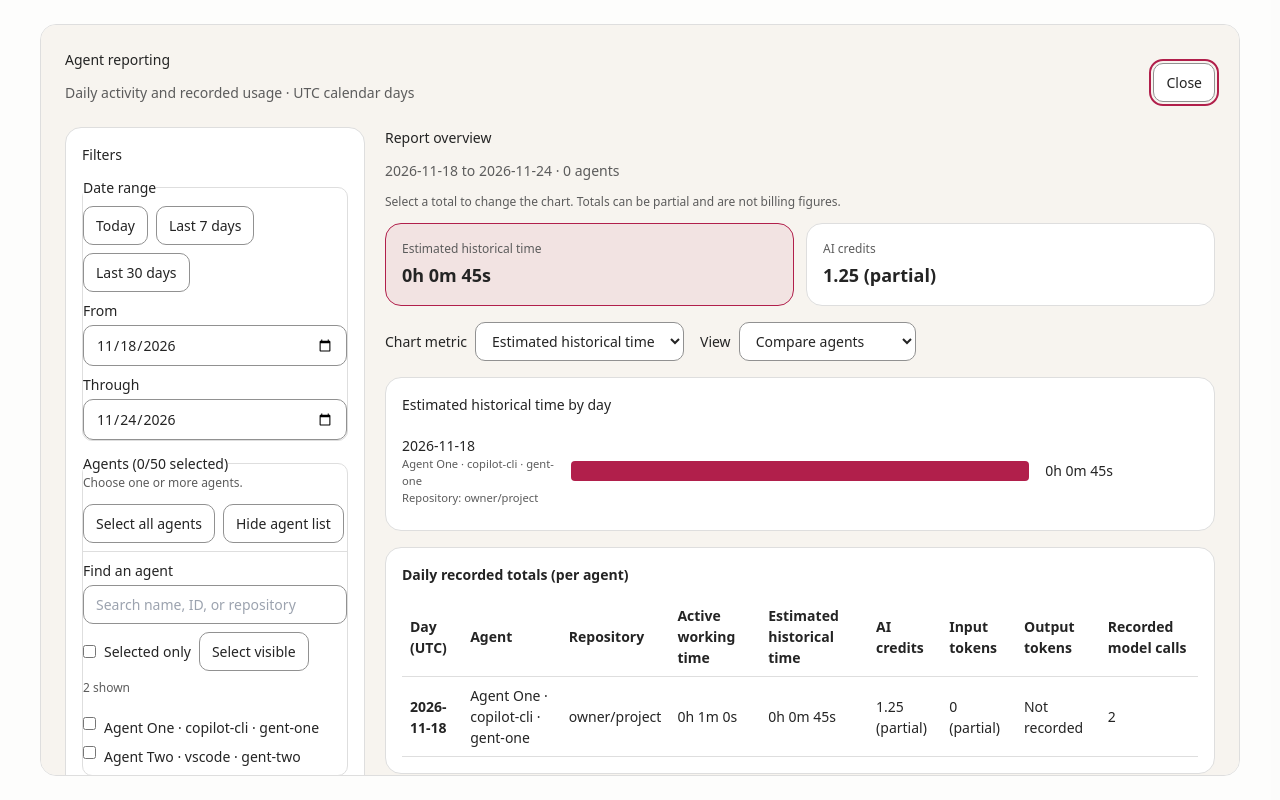
Test: agent reporting › searches and selects visible agents, then applies quick date ranges
The width and height of the screenshot is (1280, 800).
Check: the table is shown, box [402, 564, 1198, 757]
Type "agent two" into the search field labelled "Find an agent" at (215, 604), box [83, 585, 347, 624]
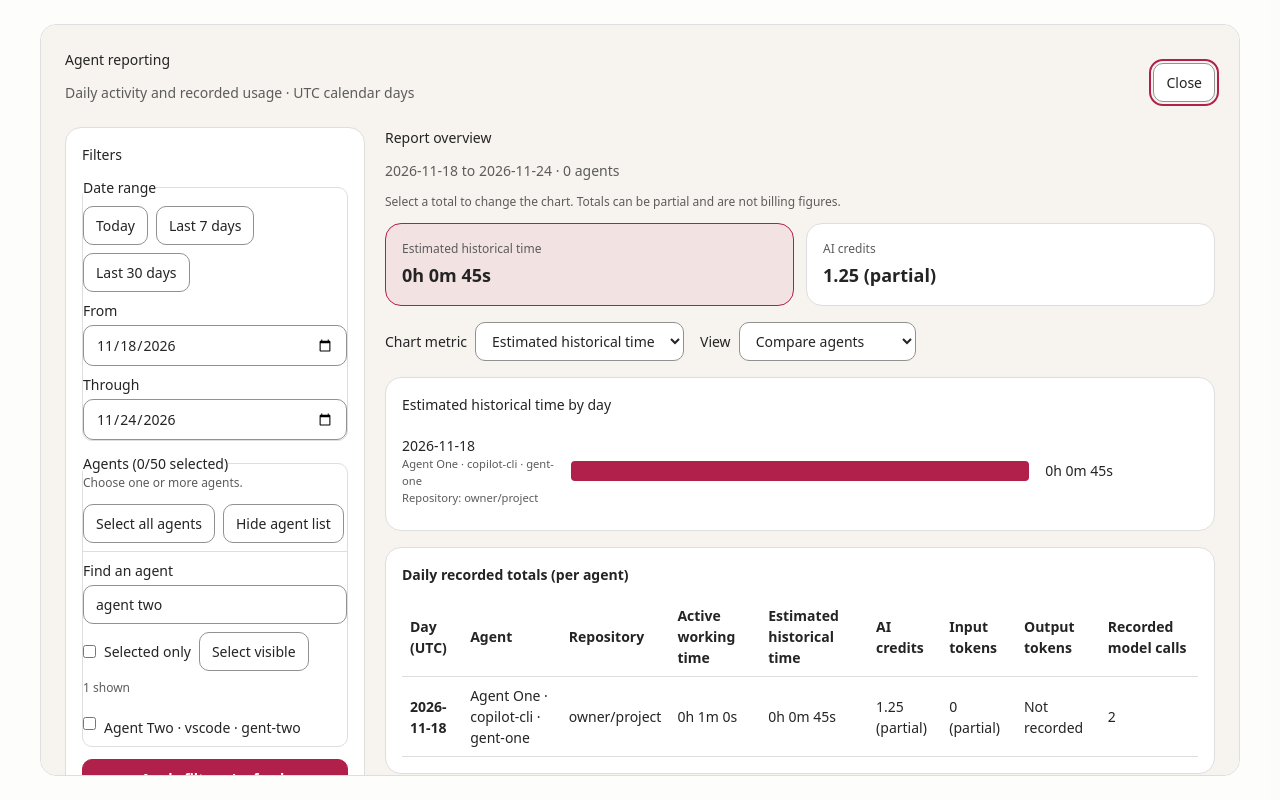
Click the button "Select visible" at (254, 652), box [199, 632, 309, 671]
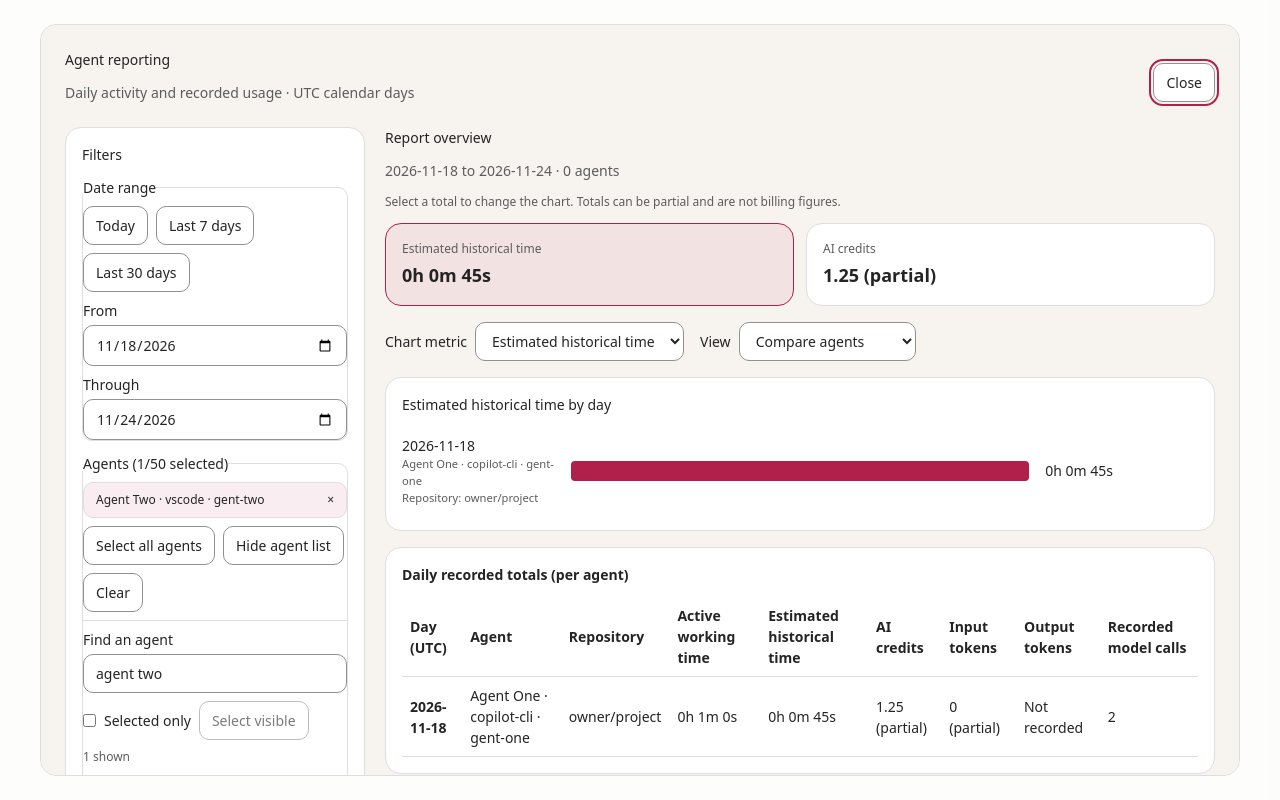
Check: the button with aria-label "Remove Agent Two" is shown, box [83, 482, 347, 518]
Click the button "Today" at (115, 226), box [83, 206, 148, 245]
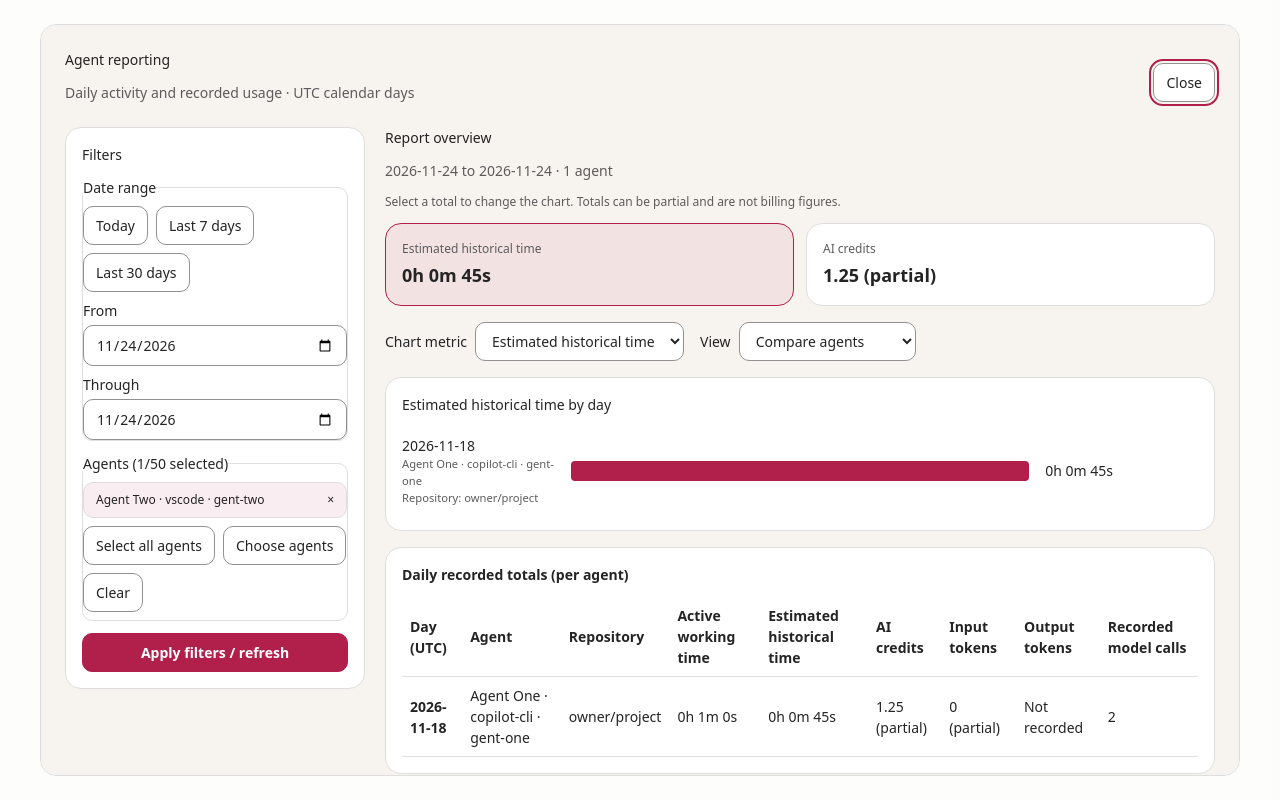
Check: the button "Choose agents" is collapsed, box [223, 526, 346, 565]
